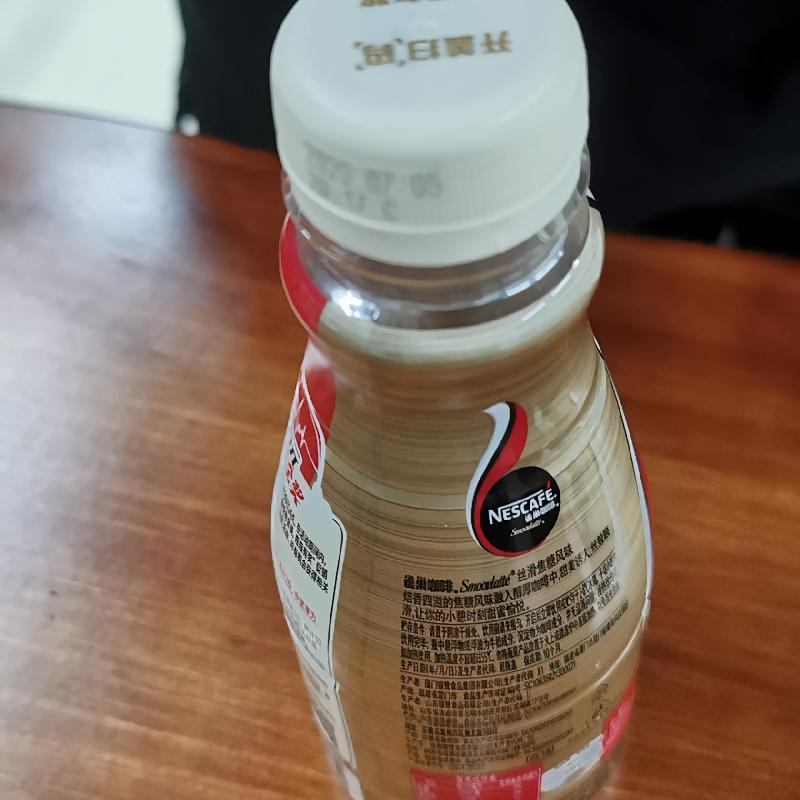bottles: (259, 6, 660, 799)
